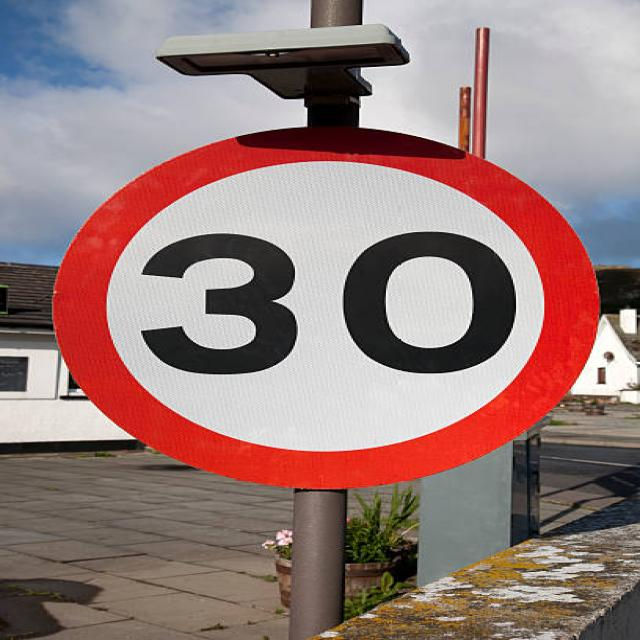speed_limit_30: (44, 121, 619, 488)
